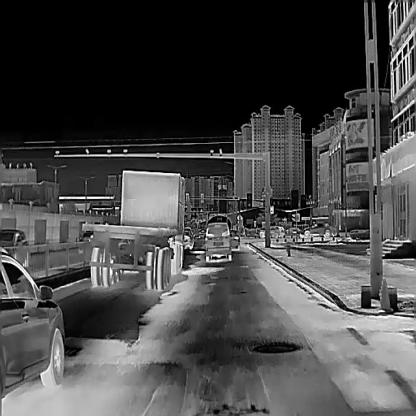car: (0, 250, 64, 398), (0, 229, 29, 266), (205, 222, 231, 261), (299, 223, 336, 237), (260, 225, 284, 238), (183, 226, 193, 249), (229, 229, 239, 250)
truck: (82, 168, 190, 288)
